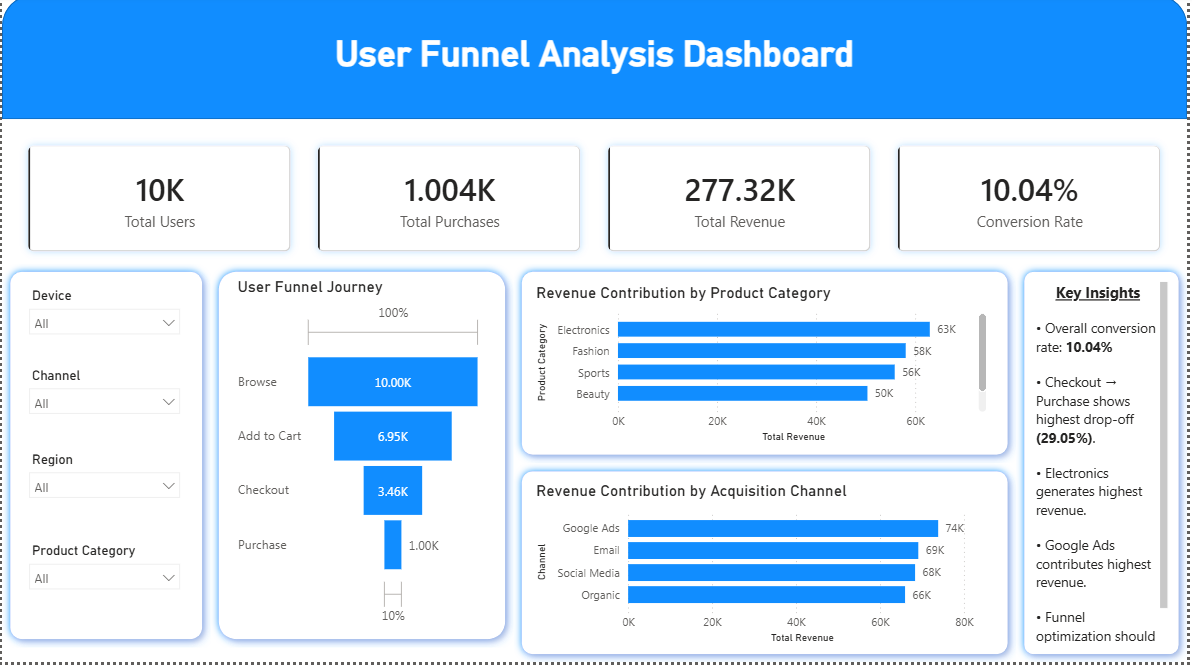

What the dashboard file says about the page in this screenshot:
{"tool":"powerbi","page":{"name":"Executive Summary","canvas":[1280,720],"ordinal":0},"visuals":[{"type":"cardVisual","fields":{"Data":["public user_funnel.Total Users","public user_funnel.Total Purchases","public user_funnel.Total Revenue","public user_funnel.Conversion Rate"]},"box":[0,134.4,1279.2,170],"z":0},{"type":"shape","box":[0,0,1279.4,134.2],"z":1000},{"type":"textbox","box":[0,20.8,1279.4,113.4],"z":2000},{"type":"shape","box":[225.1,289.8,327.1,414.5],"z":3000},{"type":"funnel","title":"User Funnel Journey","fields":{"Category":["public user_funnel.event"],"Y":["CountNonNull(public user_funnel.user_id)"]},"box":[249.4,304.4,273.6,382.1],"z":4000},{"type":"shape","box":[552.2,505.2,542.4,215.4],"z":5000},{"type":"shape","box":[552.2,289.8,542.4,215.4],"z":6000},{"type":"shape","box":[0,289.8,225.1,414.5],"z":7000},{"type":"clusteredBarChart","title":"Revenue Contribution by Product Category","fields":{"Y":["public user_funnel.Total Revenue"],"Category":["public user_funnel.product_category"]},"box":[571.6,310.9,495.5,176.5],"z":8000},{"type":"clusteredBarChart","title":"Revenue Contribution by Acquisition Channel","fields":{"Y":["public user_funnel.Total Revenue"],"Category":["public user_funnel.channel"]},"box":[571.6,524.6,495.5,179.7],"z":9000},{"type":"slicer","title":"Device","fields":{"Values":["public user_funnel.device"]},"box":[19.4,310.9,183,72.9],"z":10000},{"type":"slicer","fields":{"Values":["public user_funnel.channel"]},"box":[19.4,396.7,183,77.7],"z":11000},{"type":"slicer","fields":{"Values":["public user_funnel.region"]},"box":[19.4,487.4,183,98.8],"z":12000},{"type":"slicer","fields":{"Values":["public user_funnel.product_category"]},"box":[19.4,586.2,183,82.6],"z":13000},{"type":"shape","box":[1094.6,289.8,184.6,430.7],"z":14000},{"type":"textbox","box":[1110.8,304.4,152.2,399.9],"z":15000}]}

Visuals, with their boxes in screenshot pixels (x1, y1, x2, y2), scaled from the page's 1280x720 canvas onto the 1192x665 screenshot:
cardVisual - public user_funnel.Total Users x public user_funnel.Total Purchases: [x1=0, y1=124, x2=1191, y2=281]
shape: [x1=0, y1=0, x2=1191, y2=124]
textbox: [x1=0, y1=19, x2=1191, y2=124]
shape: [x1=210, y1=268, x2=514, y2=650]
"User Funnel Journey" funnel: [x1=232, y1=281, x2=487, y2=634]
shape: [x1=514, y1=467, x2=1019, y2=664]
shape: [x1=514, y1=268, x2=1019, y2=467]
shape: [x1=0, y1=268, x2=210, y2=650]
"Revenue Contribution by Product Category" clusteredBarChart: [x1=532, y1=287, x2=994, y2=450]
"Revenue Contribution by Acquisition Channel" clusteredBarChart: [x1=532, y1=485, x2=994, y2=650]
"Device" slicer: [x1=18, y1=287, x2=188, y2=354]
slicer - public user_funnel.channel: [x1=18, y1=366, x2=188, y2=438]
slicer - public user_funnel.region: [x1=18, y1=450, x2=188, y2=541]
slicer - public user_funnel.product_category: [x1=18, y1=541, x2=188, y2=618]
shape: [x1=1019, y1=268, x2=1191, y2=664]
textbox: [x1=1034, y1=281, x2=1176, y2=650]
